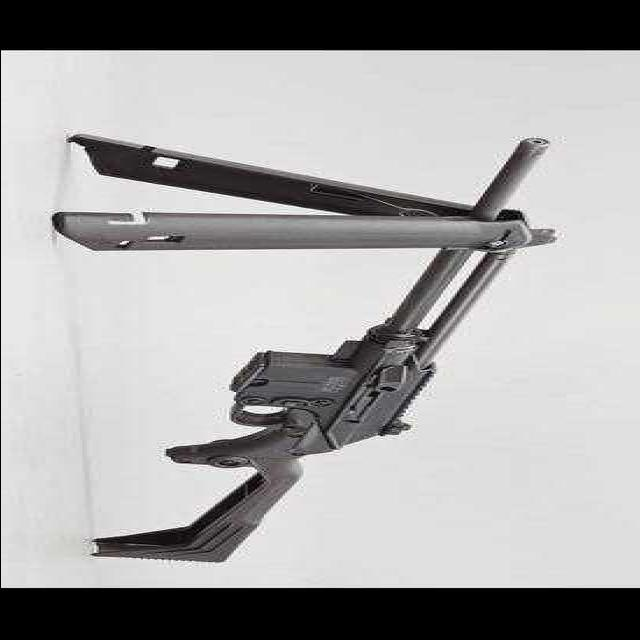heavyweapon: (36, 116, 597, 564)
